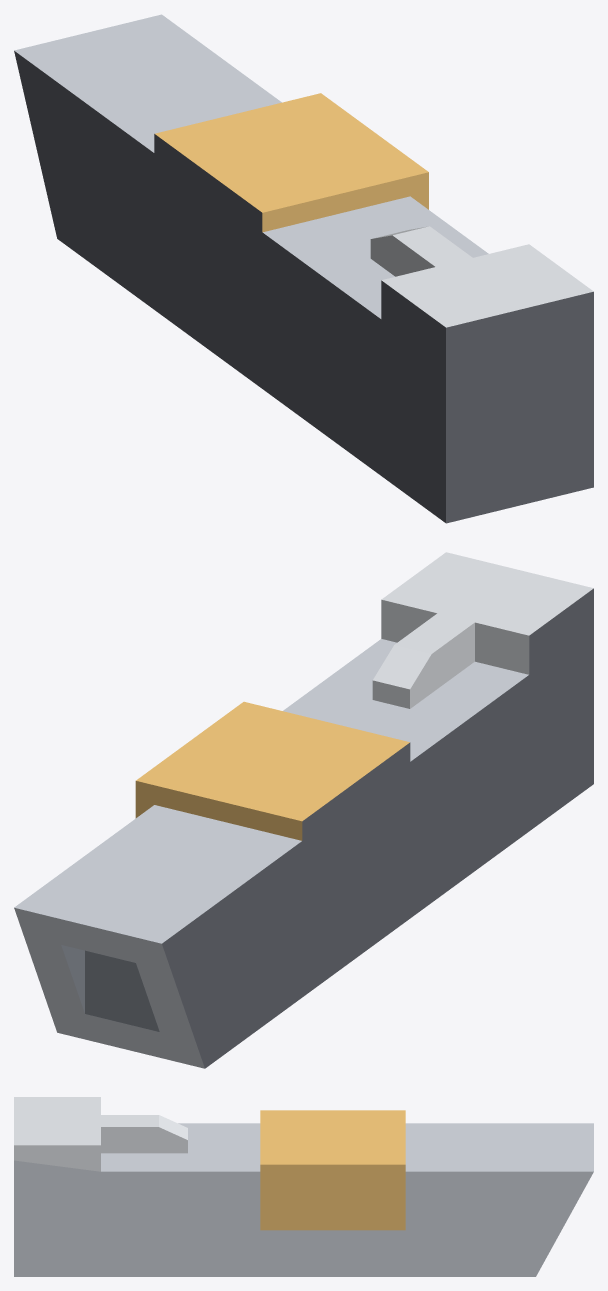
File: pod_starboard.glb
3 views of the same model, one above another, from view 1: azimuth 30°, elevation 25°; view 2: azimuth 150°, elevation 25°; view 3: azimuth 270°, elevation 25° (orthographic). The views are drawn at different scales.
Size of the model in its own units: 0.89 by 1 by 4.
